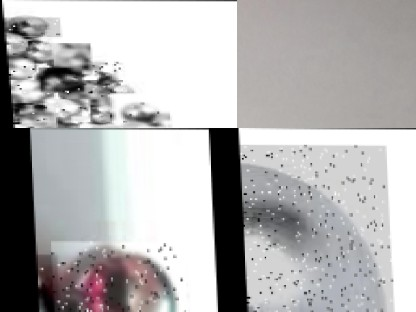ironball: (237, 144, 390, 311), (47, 241, 184, 311), (106, 93, 166, 126), (33, 254, 56, 311), (48, 43, 89, 74), (69, 61, 118, 86), (1, 17, 58, 37), (34, 67, 79, 92), (41, 98, 86, 122), (3, 51, 32, 86), (60, 81, 104, 104), (6, 80, 50, 103), (14, 105, 52, 125), (7, 101, 41, 120), (36, 117, 67, 127), (87, 125, 132, 127)
